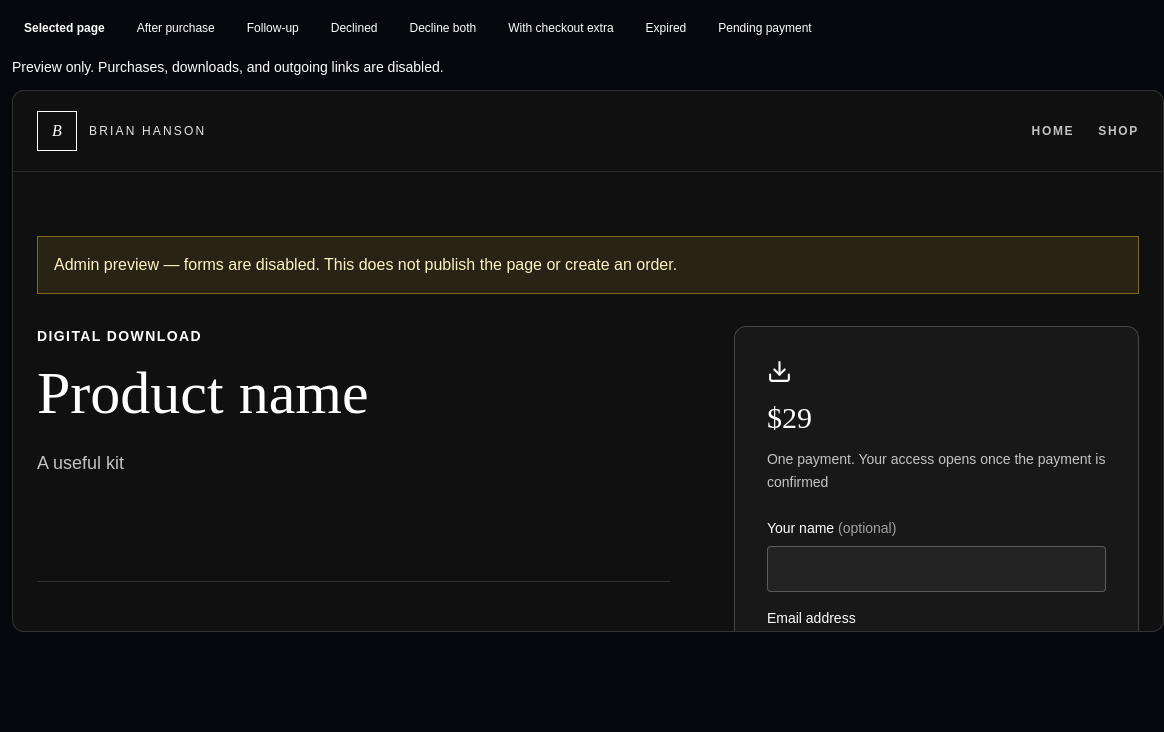
simulates the persisted alternative and optional purchased file without running checkout
Click the button "Declined": (354, 28) [319,12,390,44]
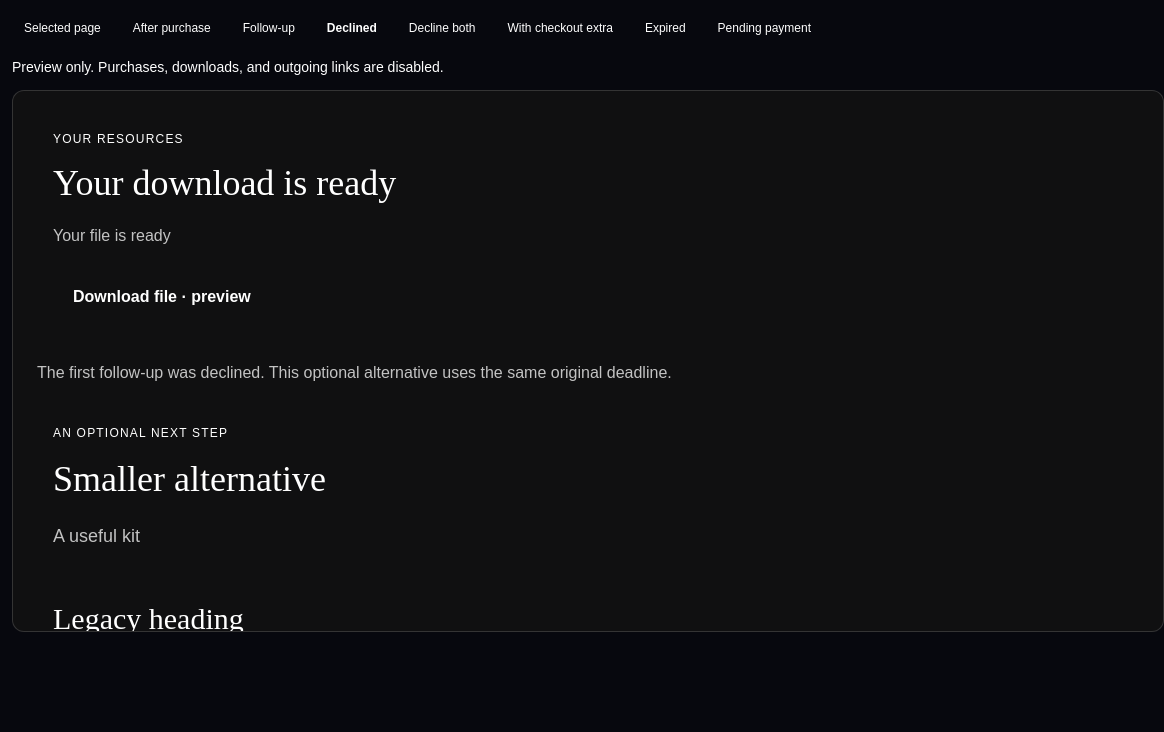
Expected: the heading "Smaller alternative" is shown, [53,459,326,499]
Expected: the text "same original deadline" is shown, [37,364,672,381]
Click the button "Decline both": (442, 28) [397,12,488,44]
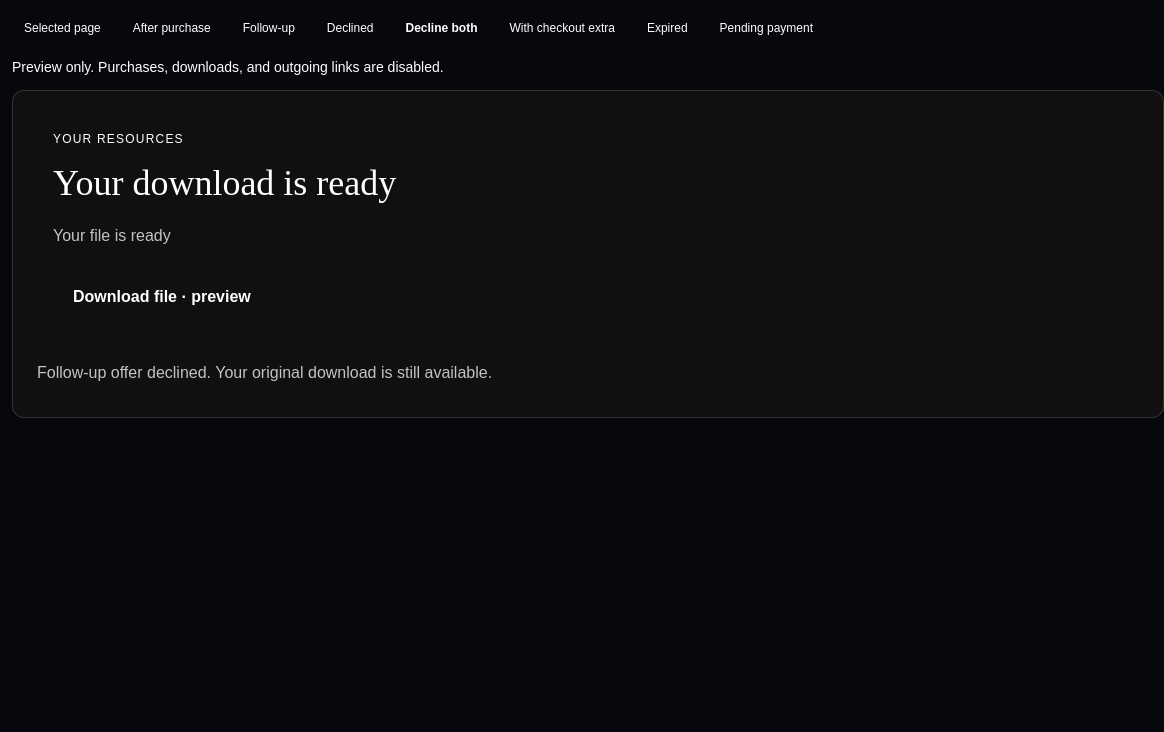
Expected: the heading "Smaller alternative" is gone
Click the button "With checkout extra": (562, 28) [498,12,627,44]
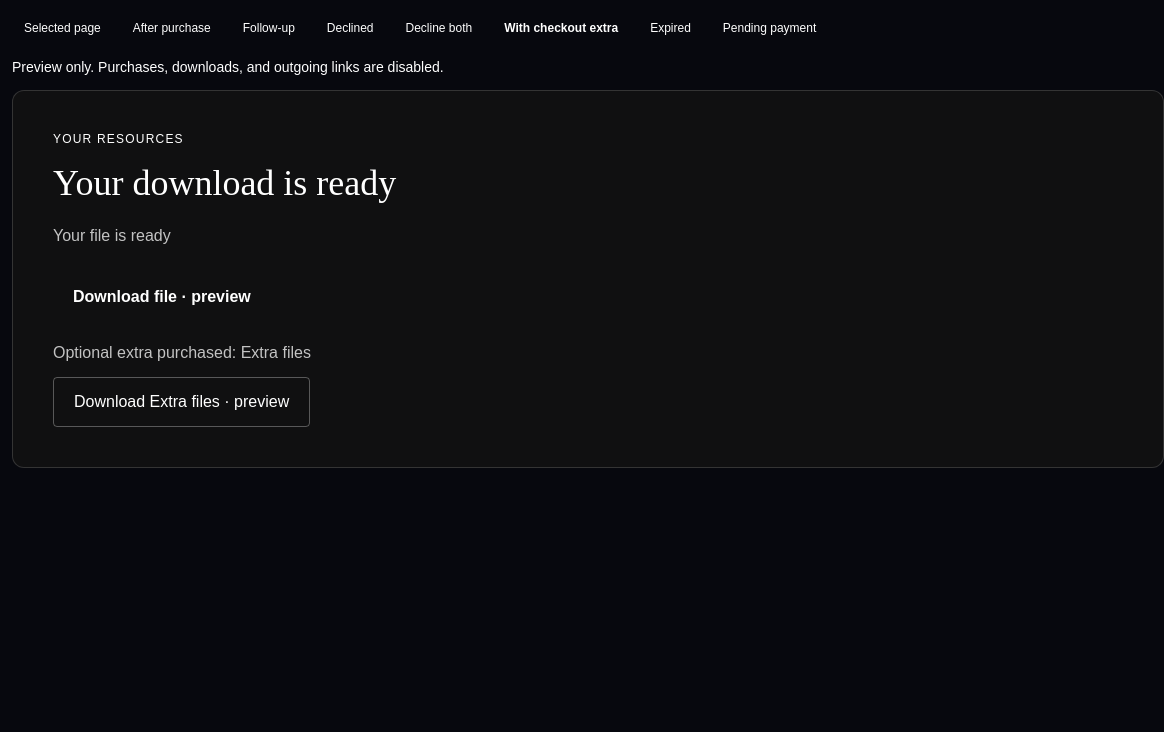
Expected: the button "Download Extra files · preview" is disabled, [53,377,310,427]
